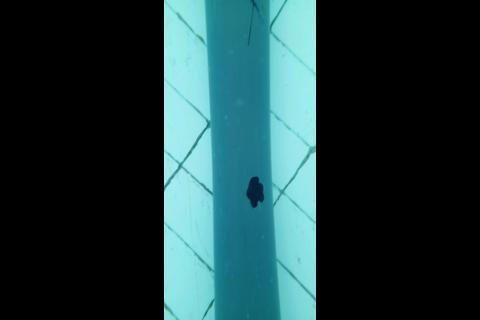kebocoran: (245, 175, 265, 209)
keretakan: (245, 0, 262, 43)
